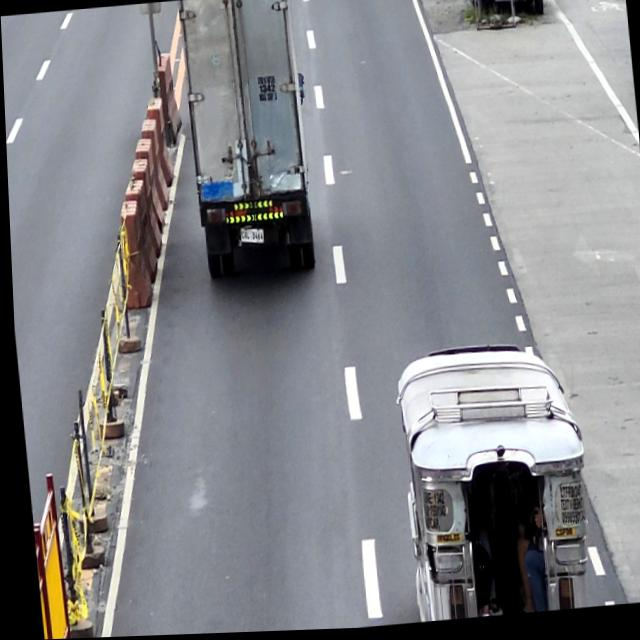Jeep: (387, 337, 596, 626)
License-Plate: (237, 227, 263, 248)
Truck: (176, 0, 323, 284)
